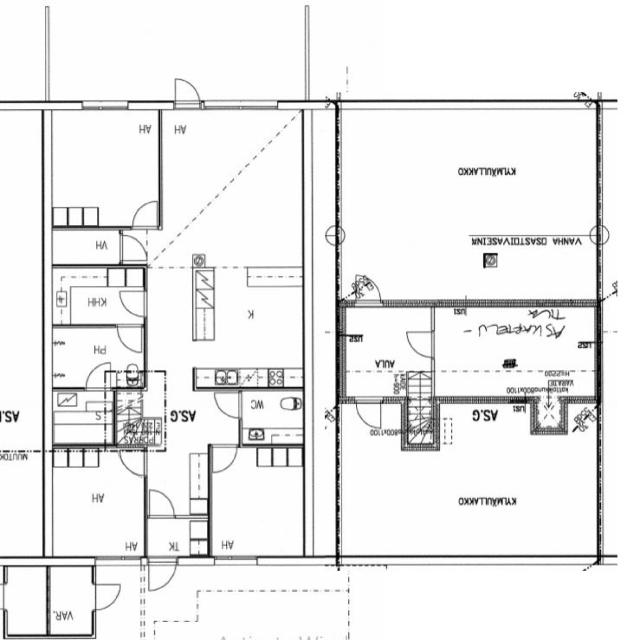door: (337, 306, 437, 396), (121, 196, 157, 264), (401, 325, 439, 362), (144, 554, 178, 593), (170, 73, 203, 112), (350, 272, 385, 307), (90, 579, 126, 613), (116, 286, 150, 321), (116, 230, 150, 265), (210, 387, 246, 420), (128, 197, 161, 231), (115, 319, 146, 355), (117, 446, 150, 479), (208, 441, 239, 476), (146, 486, 177, 521), (353, 397, 384, 431), (84, 361, 110, 390), (321, 222, 341, 246)
window: (200, 93, 284, 116), (75, 96, 130, 114), (212, 552, 261, 567), (0, 583, 10, 612)
zone: (162, 105, 310, 269), (432, 305, 600, 399), (47, 106, 163, 230), (191, 267, 305, 388), (211, 443, 306, 559), (48, 448, 146, 558), (336, 304, 435, 396), (49, 264, 148, 326), (53, 324, 148, 384), (50, 388, 116, 448), (240, 387, 306, 446), (48, 566, 95, 636), (4, 566, 48, 636), (51, 227, 122, 265)
